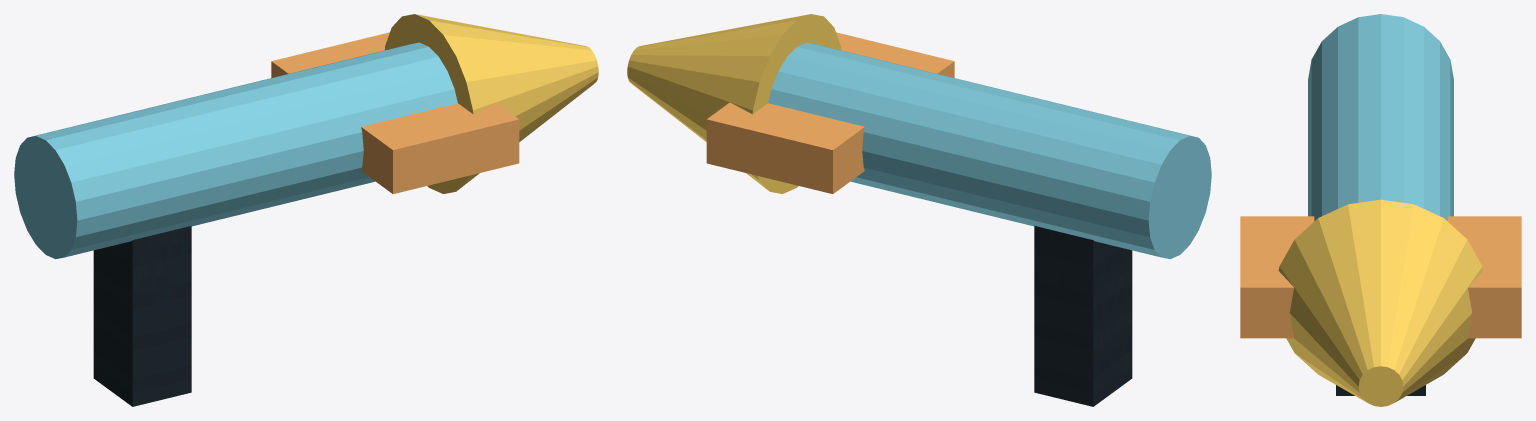
Rendered from bp_weaponrocket.glb.
3 renders of one model, left to right at view 1: azimuth 30°, elevation 25°; view 2: azimuth 150°, elevation 25°; view 3: azimuth 270°, elevation 25°, orthographic. The views are drawn at different scales.
Parts seen in each view (by area): view 1: RocketTube, Grip.003, RocketNose, Fin.001, Fin; view 2: RocketTube, Grip.003, RocketNose, Fin, Fin.001; view 3: RocketNose, RocketTube, Fin, Fin.001.
Boxes of the visible parts, x1,y1,x2,y2 form: RocketTube: (14,42,457,259); Grip.003: (93,226,191,406); RocketNose: (384,14,598,193); Fin.001: (361,102,519,193); Fin: (271,32,389,77); RocketTube: (768,42,1211,259); Grip.003: (1034,226,1132,406); RocketNose: (627,14,841,193); Fin: (706,102,864,193); Fin.001: (836,32,954,77); RocketNose: (1278,199,1483,406); RocketTube: (1308,14,1453,220); Fin: (1447,216,1521,338); Fin.001: (1240,216,1314,338).
Size of the model in its own units: 1.29 by 0.67 by 0.5.
4 materials, 1 textured.
